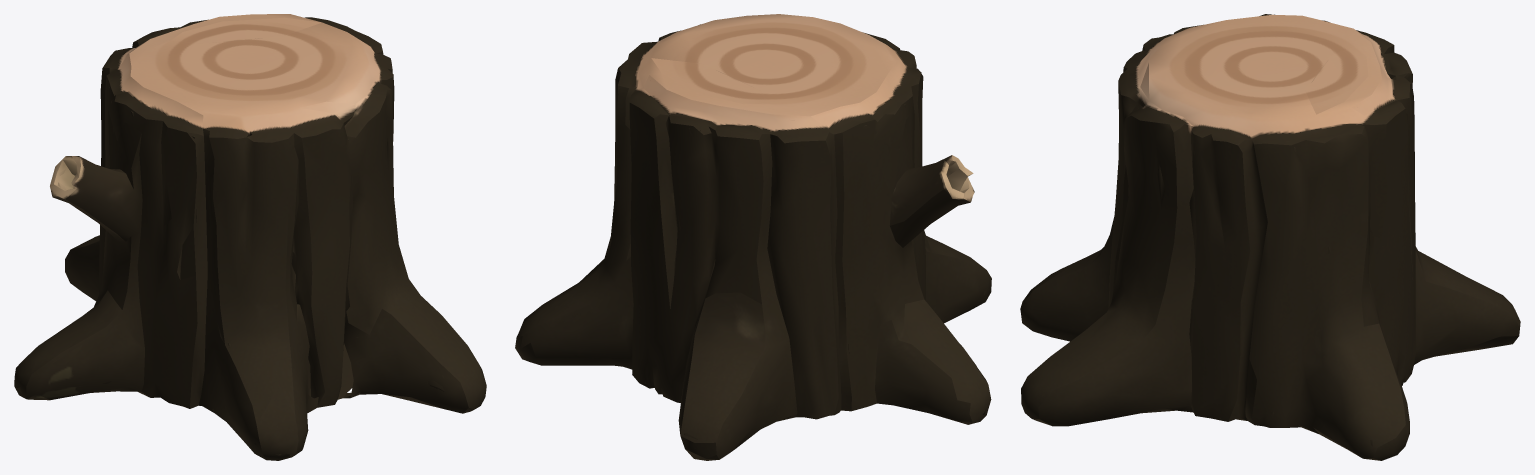
File: ENV_09_STUMP.glb
3 renders of one model, left to right at view 1: azimuth 30°, elevation 25°; view 2: azimuth 150°, elevation 25°; view 3: azimuth 270°, elevation 25°, orthographic. The views are drawn at different scales.
Parts seen in each view (by area): view 1: world; view 2: world; view 3: world.
Part boxes in pixels (left/top/right/bottom): world: left=14, top=14, right=486, bottom=460; world: left=515, top=14, right=991, bottom=460; world: left=1020, top=14, right=1520, bottom=460.
Size of the model in its own units: 0.988 by 0.6651 by 0.9982.
Materials: 1 (1 with a texture image).
